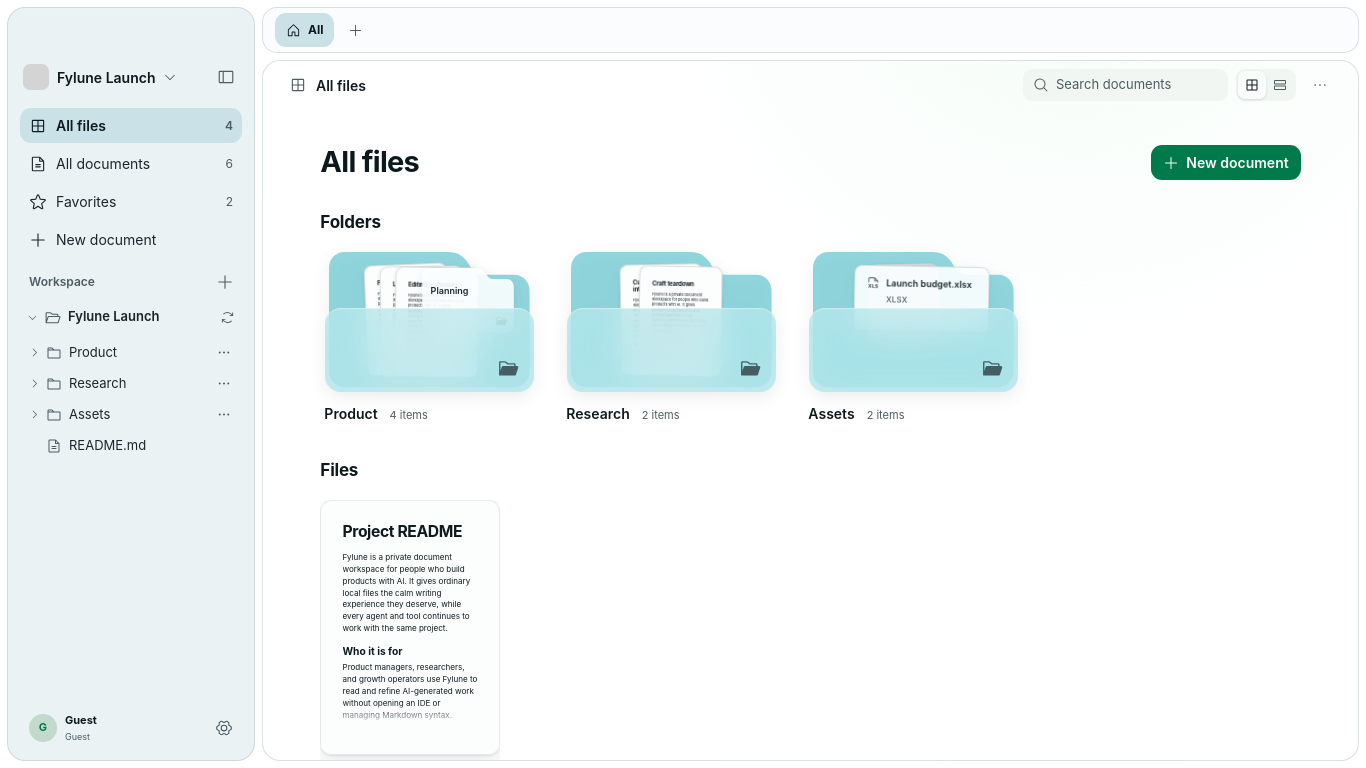
Test: Fylune renderer › shows locally remembered projects and reopens one from the project menu
Type "Product" into the field labelled "Search documents" at (1137, 85), box x1=1056 y1=75 x2=1218 y2=95
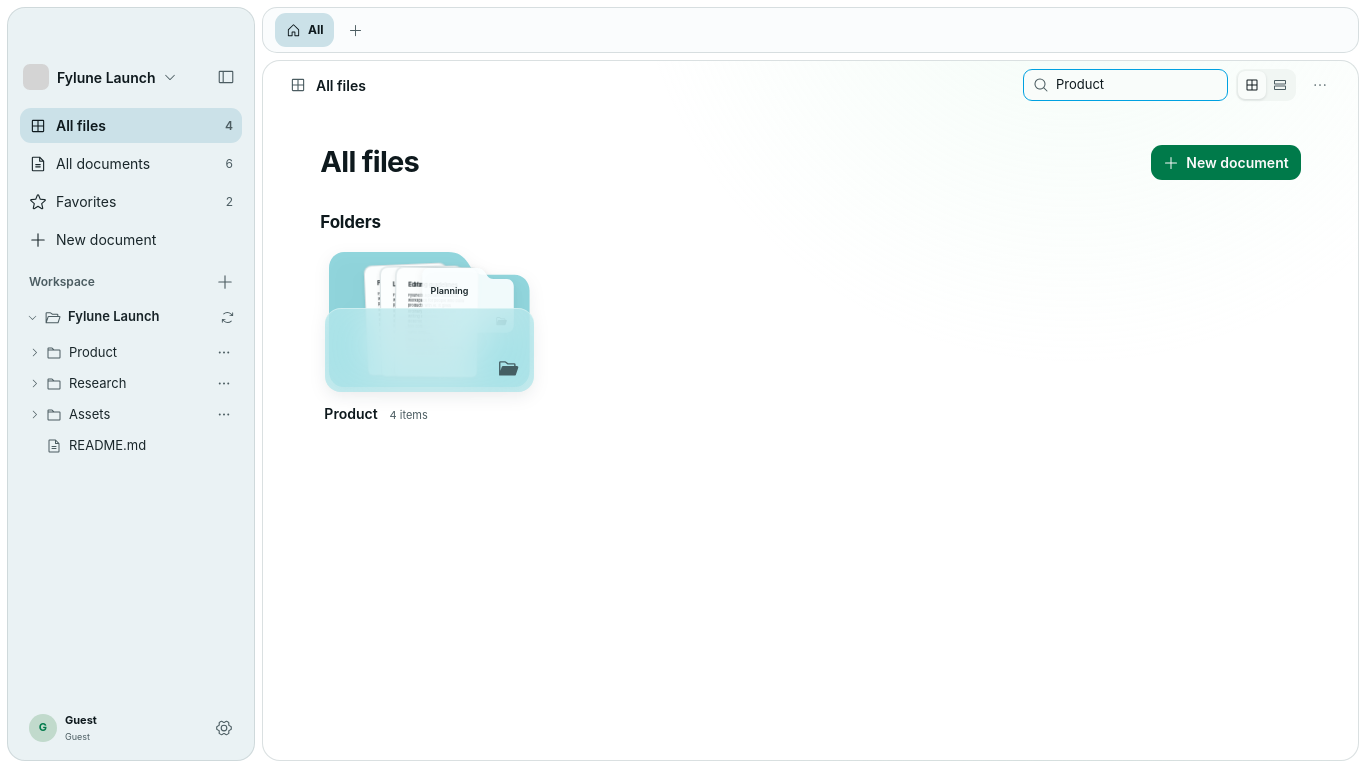
Click the 1st button "Fylune Launch" at (101, 77), box x1=20 y1=60 x2=182 y2=94
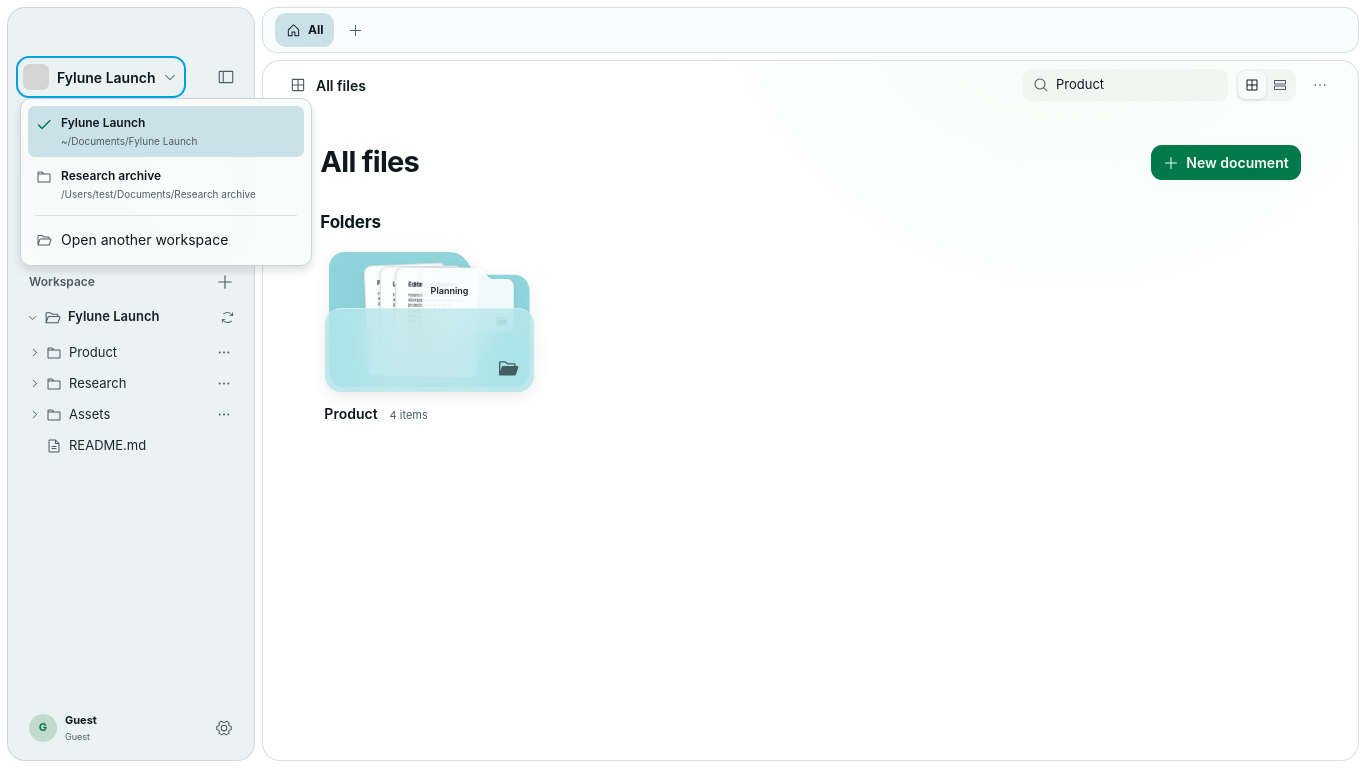
Check: the text "/Users/test/Documents/Research archive" is shown, box x1=61 y1=188 x2=256 y2=200
Click the button with aria-label "Open workspace Research archive" at (111, 176), box x1=28 y1=159 x2=304 y2=210
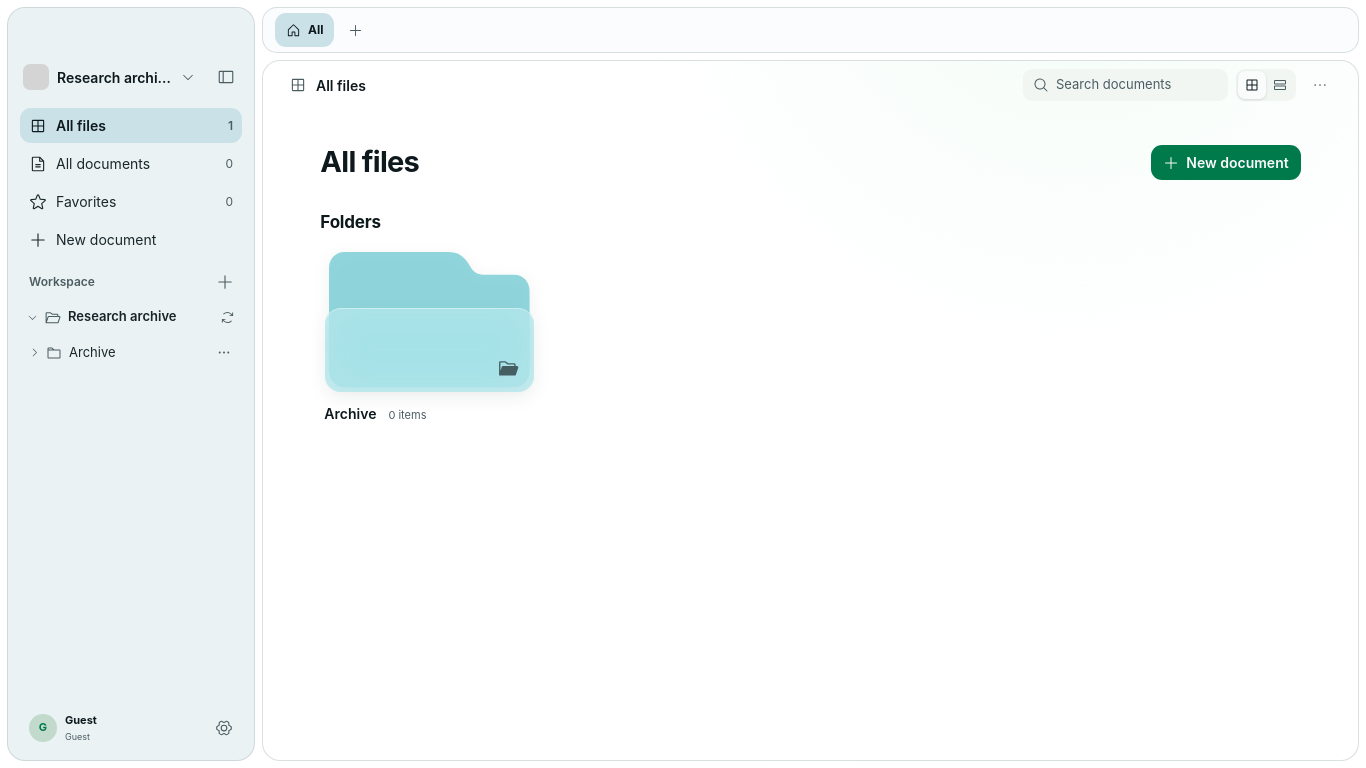
Check: the 1st button "Research archive" is shown, box x1=20 y1=60 x2=200 y2=94
Check: the field labelled "Search documents" is empty, box x1=1056 y1=75 x2=1218 y2=95
Check: the button with aria-label "Open folder Archive" is shown, box x1=320 y1=252 x2=538 y2=424
